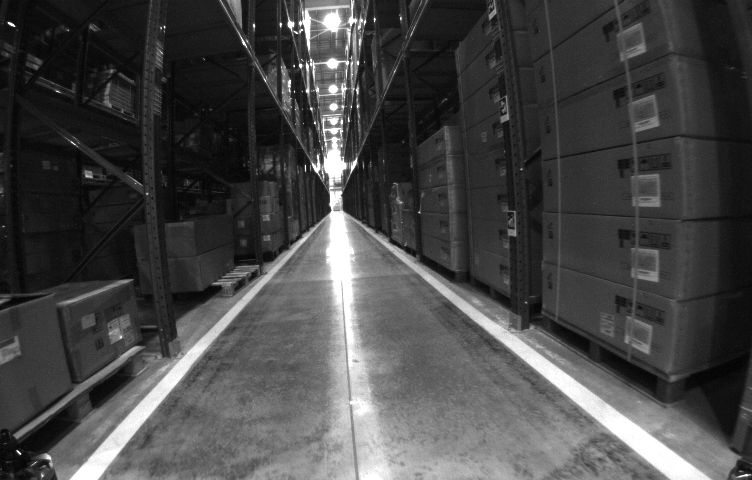True Barcode: (122, 327, 138, 345)
